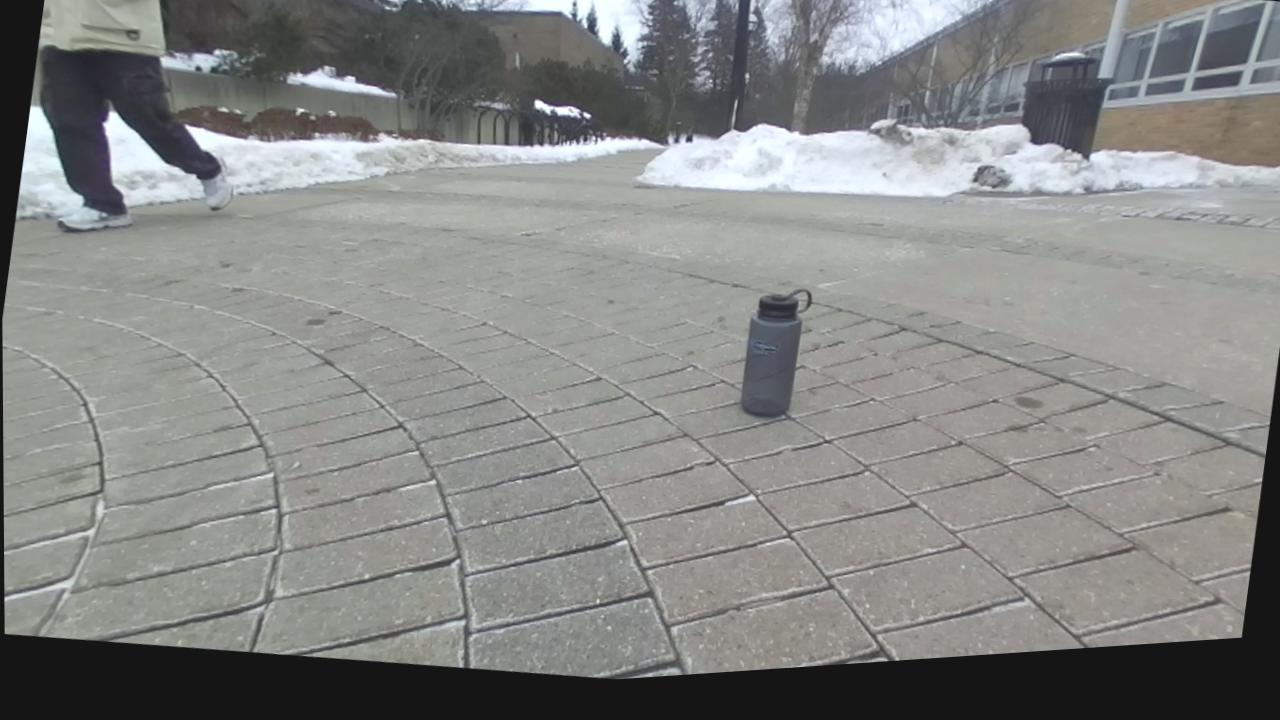bottle: (741, 289, 812, 416)
